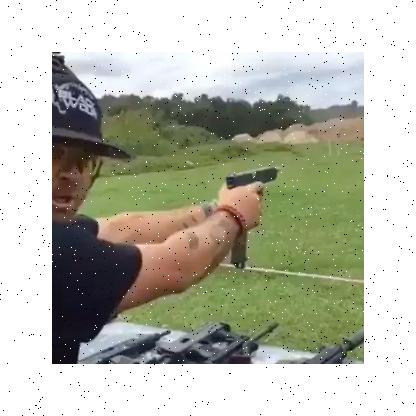gun: (221, 160, 280, 246)
